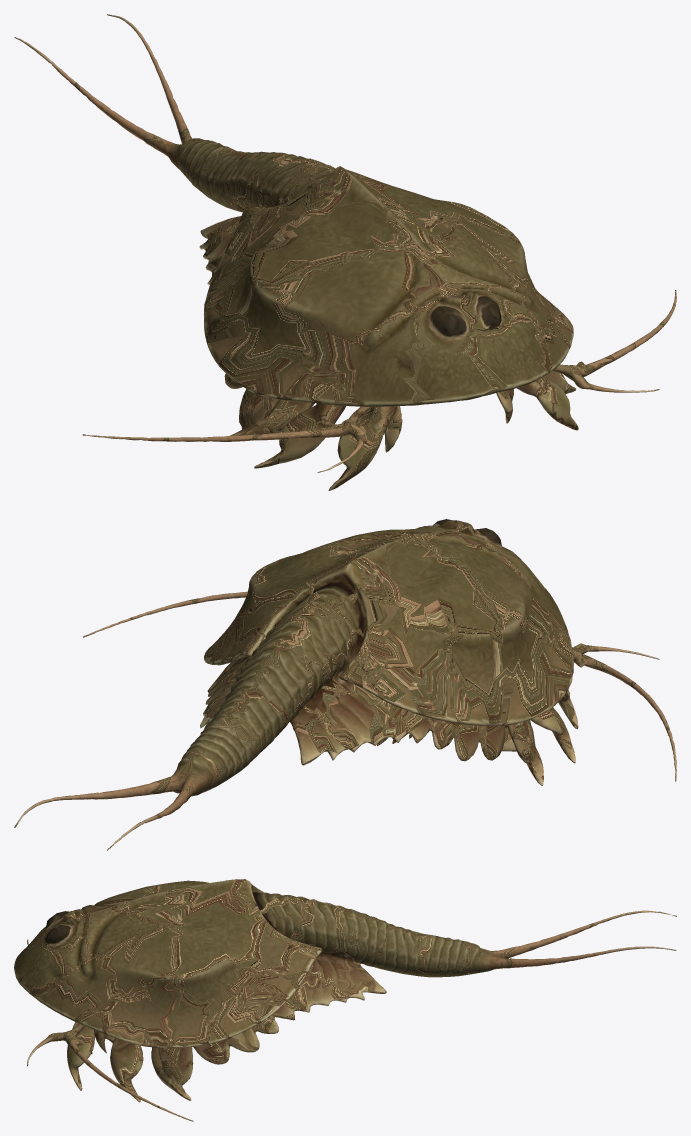
File: triops.glb
3 renders of one model, top to bottom at view 1: azimuth 30°, elevation 25°; view 2: azimuth 150°, elevation 25°; view 3: azimuth 270°, elevation 25°, orthographic. The views are drawn at different scales.
Visible parts, largest first — view 1: triops; view 2: triops; view 3: triops.
Part boxes in pixels (x1=…): triops: x1=14, y1=14, x2=676, y2=490; triops: x1=14, y1=519, x2=676, y2=850; triops: x1=14, y1=879, x2=676, y2=1121.
Size of the model in its own units: 1.49 by 0.518 by 1.9.
Materials: 1 (1 with a texture image).
